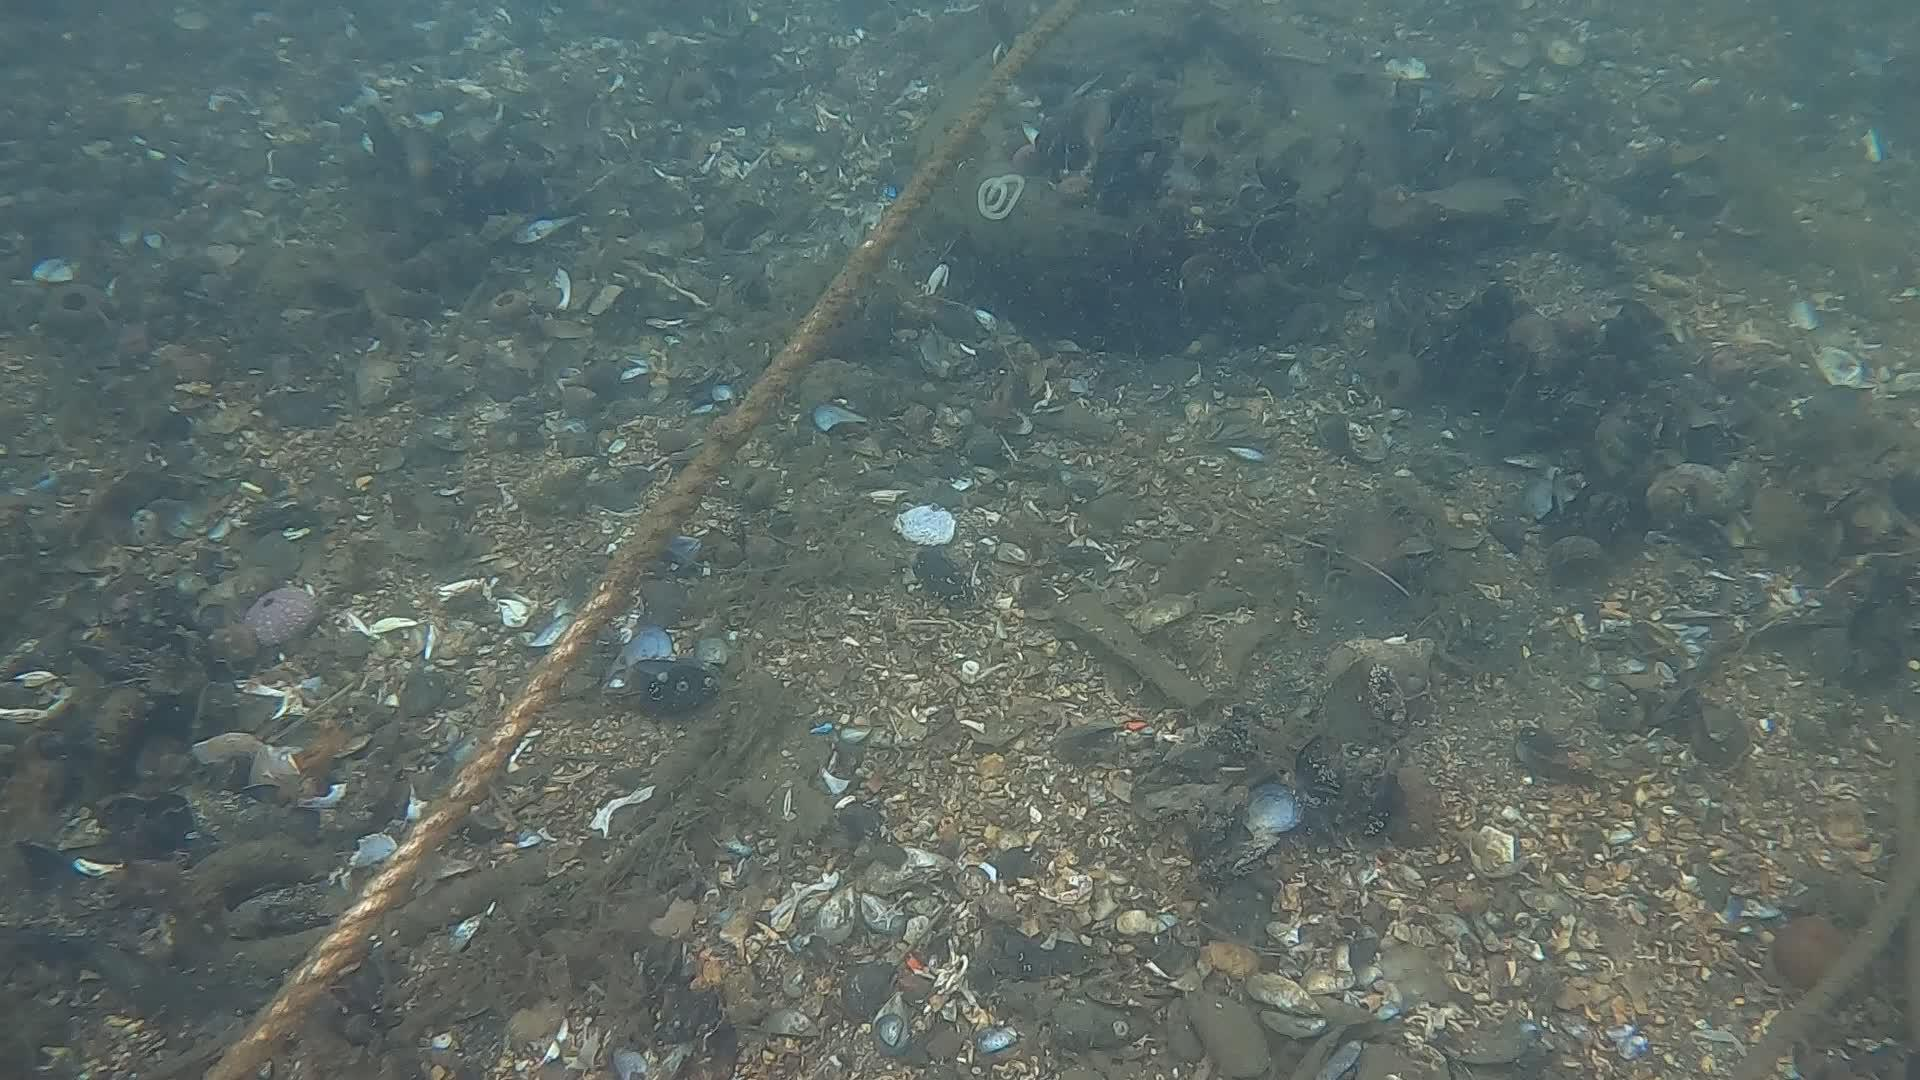rope: (204, 0, 1098, 1080)
